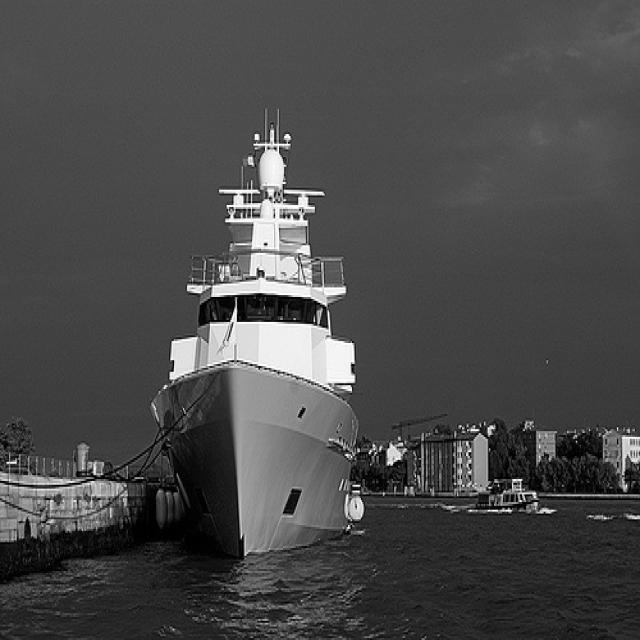boat: (147, 99, 367, 562), (471, 475, 548, 521)
